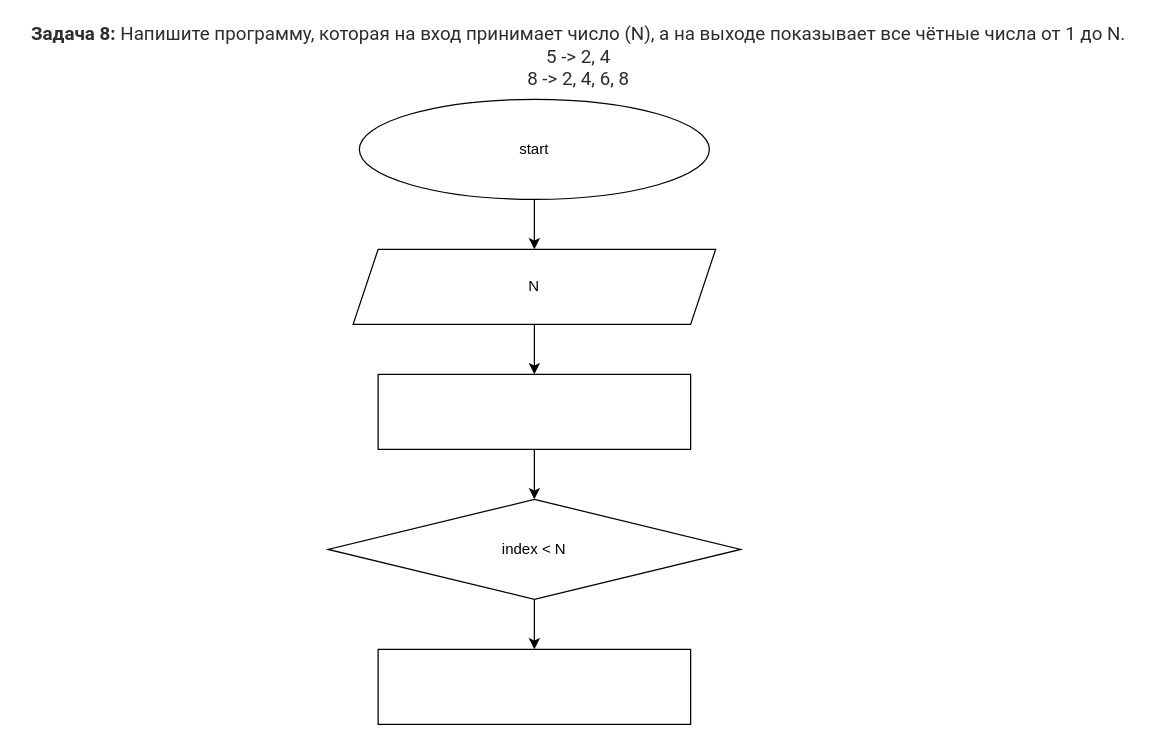
Image size: 1155x746. Some labels were removed from this diagram. Each missing label, with the centre of its shape:
"index = 1" goes at [534,411].
"index mod 2 == 0" goes at [534,686].
